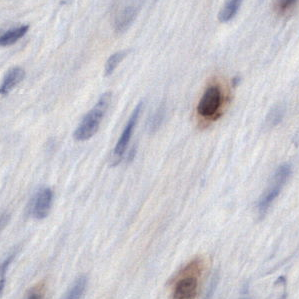Lymphocyte: (196, 86, 224, 119)
